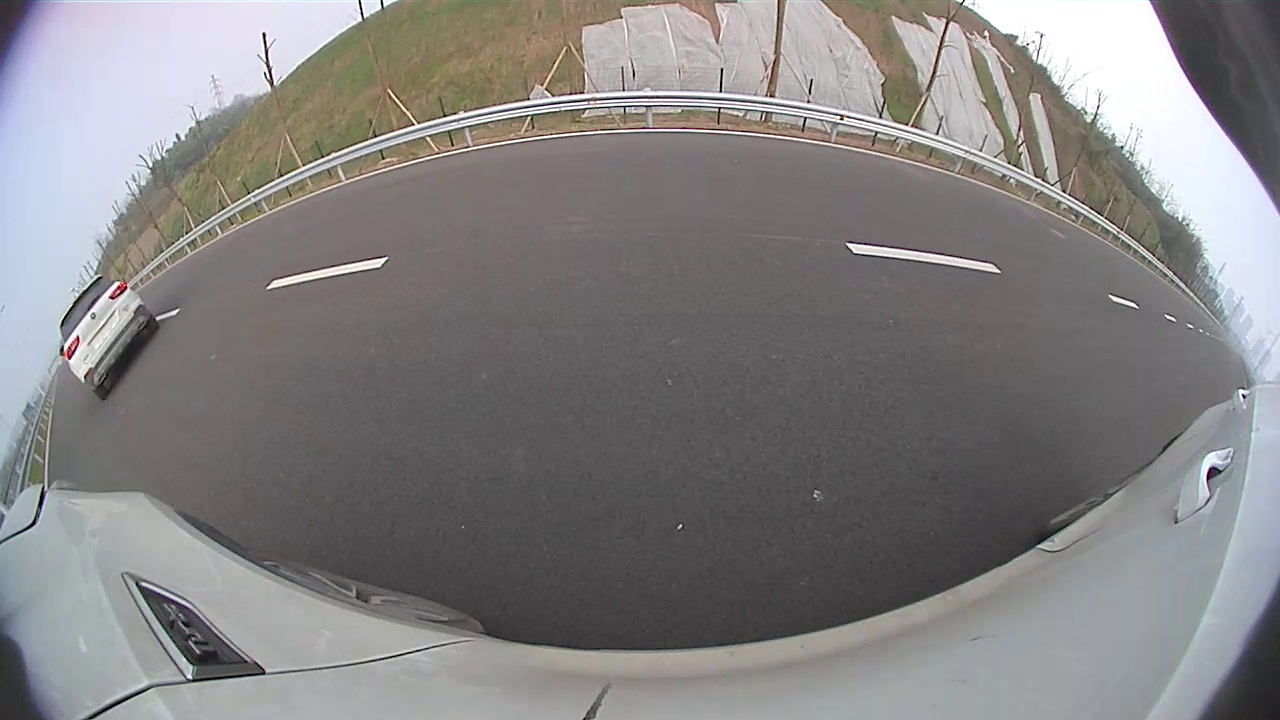car: (418, 118, 594, 241)
front: (579, 174, 594, 208)
rear: (535, 180, 563, 230)
